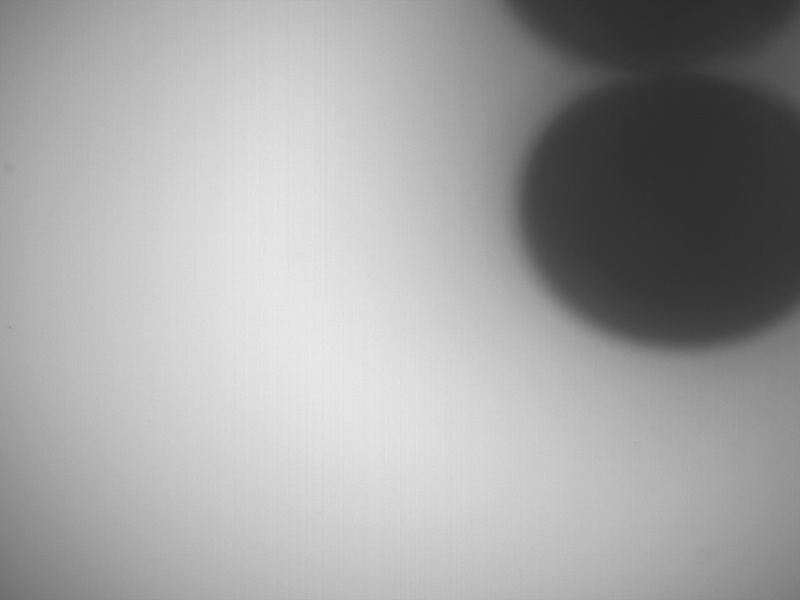bead: (520, 70, 800, 351), (498, 1, 799, 75)
